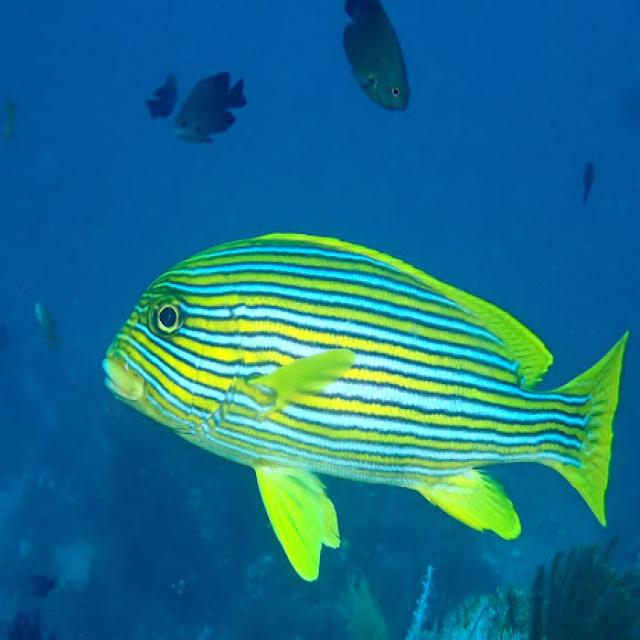RibbonedSweetlips: (100, 230, 630, 581)
